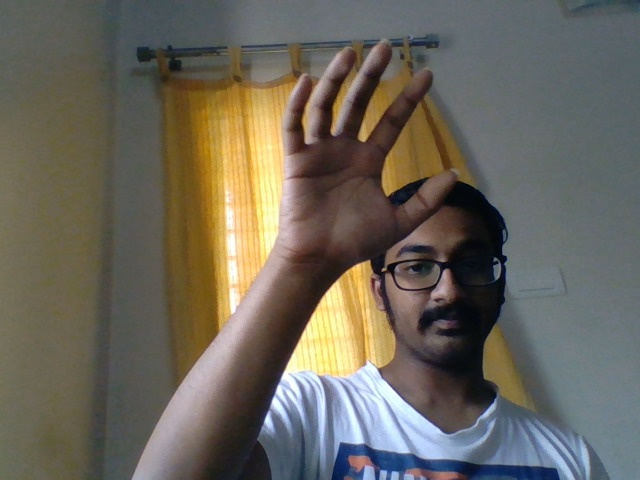no: (222, 20, 489, 310)
